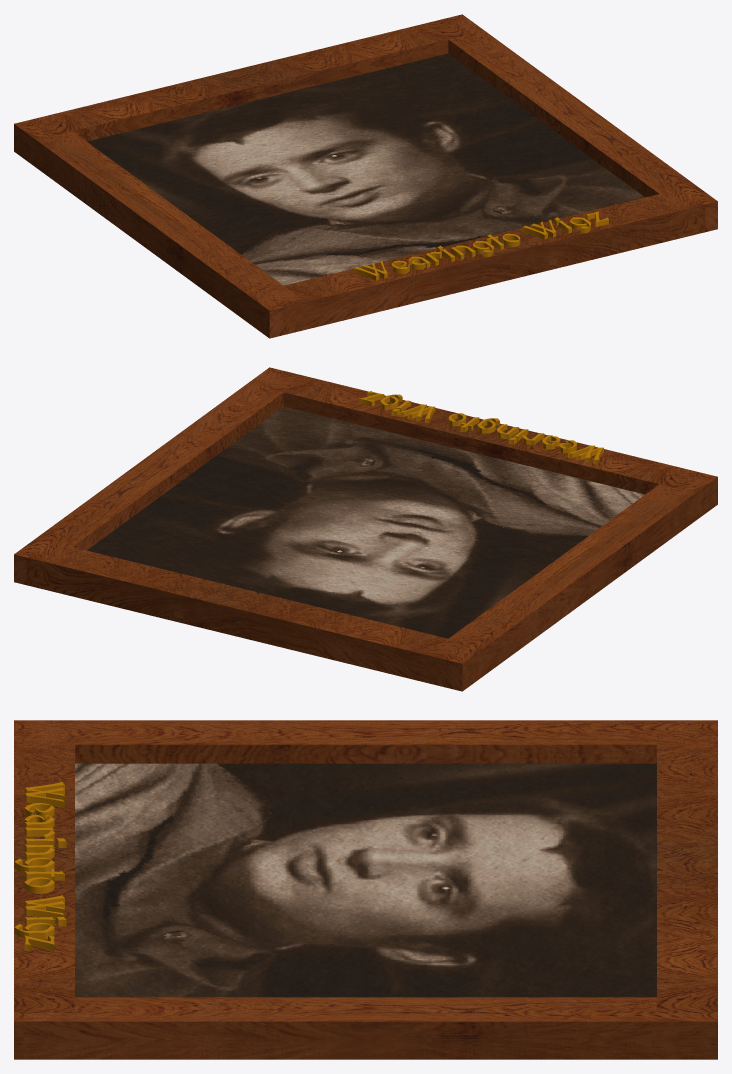
The model's file is monkframe4.glb.
The picture shows the model from 3 angles, top to bottom: view 1: azimuth 30°, elevation 25°; view 2: azimuth 150°, elevation 25°; view 3: azimuth 270°, elevation 25°; orthographic projection. The views are drawn at different scales.
Visible parts, largest first — view 1: Plane, Cube, William Dafilo; view 2: Plane, Cube, William Dafilo; view 3: Plane, Cube, William Dafilo.
Boxes of the visible parts, x1=… form: Plane: x1=87, y1=53, x2=644, y2=285; Cube: x1=14, y1=14, x2=717, y2=338; William Dafilo: x1=353, y1=211, x2=608, y2=280; Plane: x1=87, y1=406, x2=644, y2=638; Cube: x1=14, y1=367, x2=717, y2=691; William Dafilo: x1=359, y1=391, x2=603, y2=464; Plane: x1=75, y1=763, x2=656, y2=997; Cube: x1=14, y1=720, x2=717, y2=1059; William Dafilo: x1=14, y1=782, x2=66, y2=951.
Bounding box in the file's own units: 0.6936 × 0.0482 × 0.6847.
Materials: 3 (2 with a texture image).
